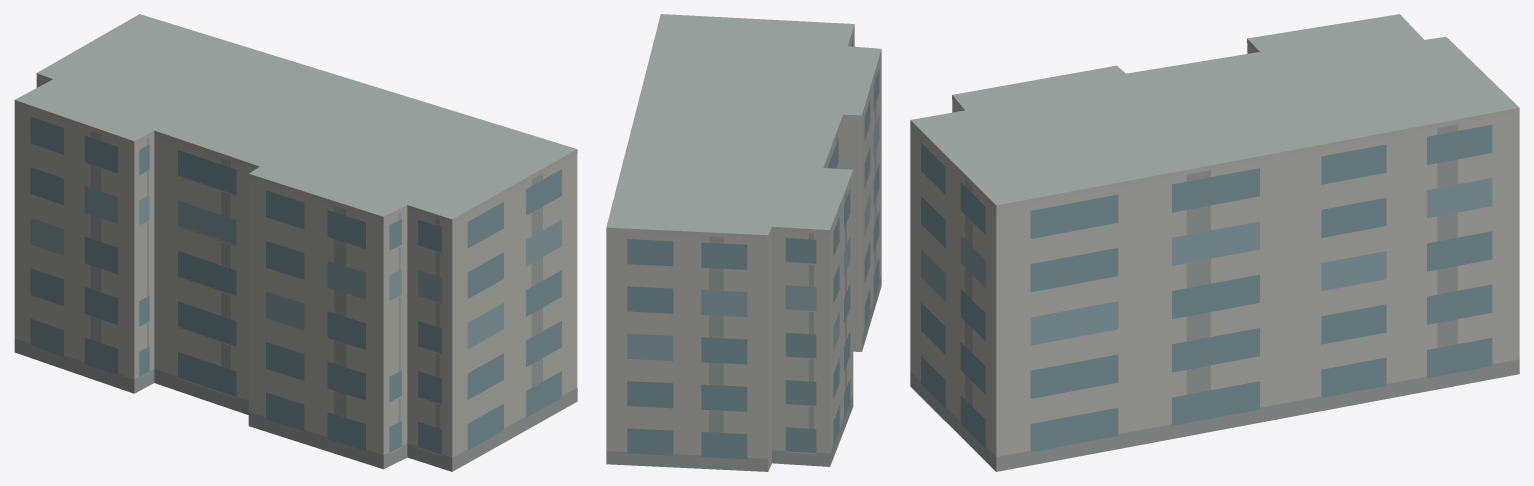
File: survey-upis-32616961.glb
3 renders of one model, left to right at view 1: azimuth 30°, elevation 25°; view 2: azimuth 150°, elevation 25°; view 3: azimuth 270°, elevation 25°, orthographic. The views are drawn at different scales.
Parts seen in each view (by area): view 1: survey-upis-32616961.tmp; view 2: survey-upis-32616961.tmp; view 3: survey-upis-32616961.tmp.
Boxes of the visible parts, bbox=[...] form: survey-upis-32616961.tmp: bbox=[14, 14, 577, 471]; survey-upis-32616961.tmp: bbox=[606, 14, 881, 471]; survey-upis-32616961.tmp: bbox=[910, 14, 1519, 471].
Size of the model in its own units: 20.27 by 13.15 by 27.26.
